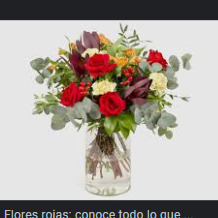RedRose: (82, 51, 120, 79), (54, 79, 88, 110), (93, 89, 128, 119), (142, 50, 173, 73)
